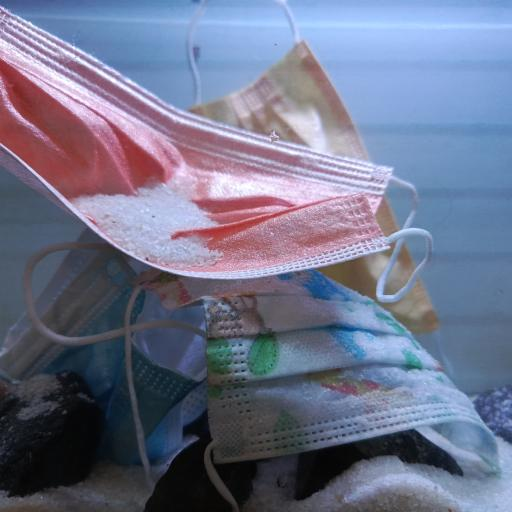mask: (0, 8, 431, 296), (113, 250, 512, 468), (183, 0, 440, 332), (4, 214, 202, 462)
